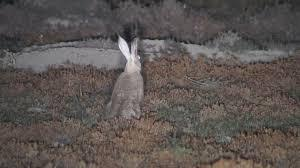rabbit: (107, 34, 159, 127)
